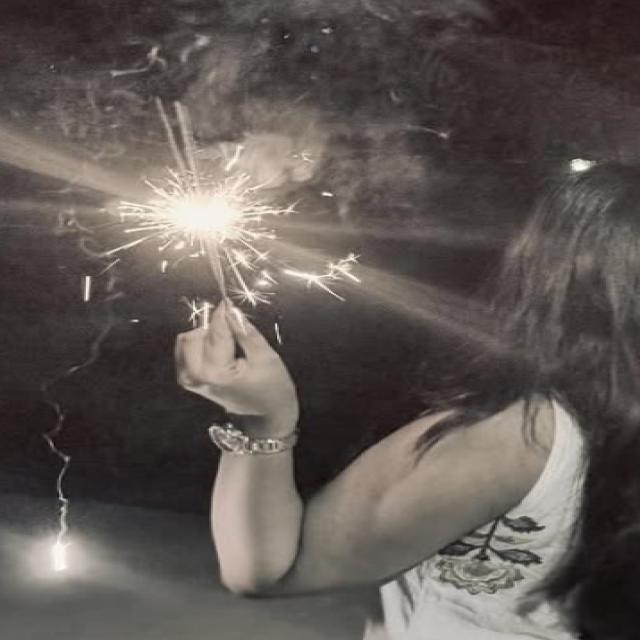fire: (152, 187, 256, 241)
